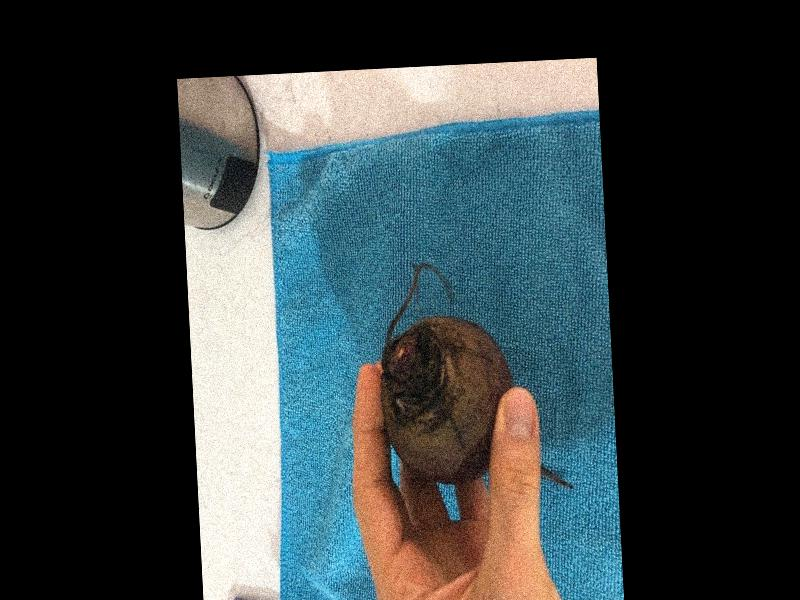Beet: (376, 258, 572, 497)
